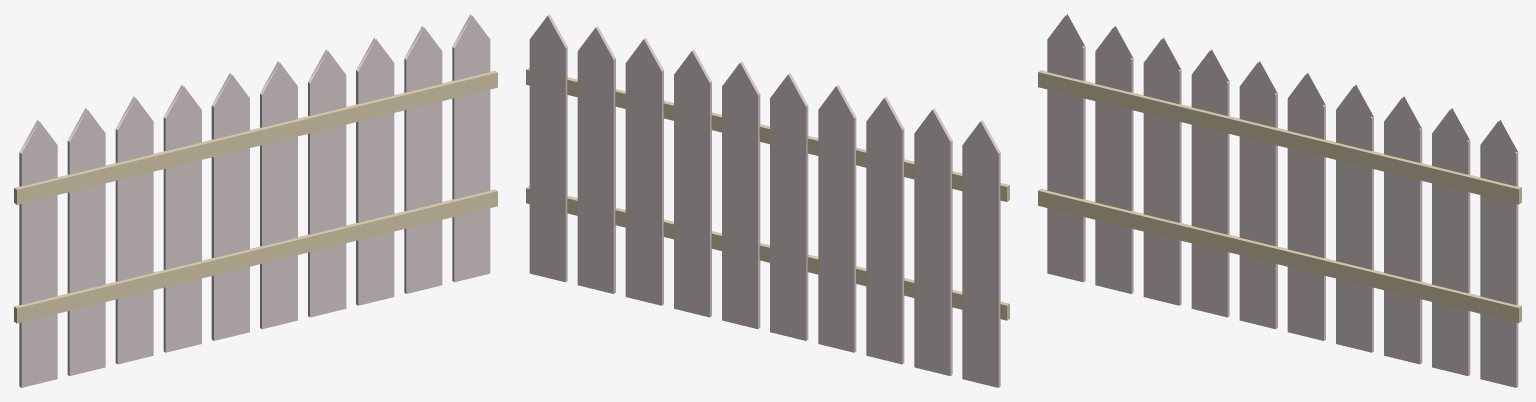
Rendered from Fence.fbx.
3 views of the same model, side by side, from view 1: azimuth 30°, elevation 25°; view 2: azimuth 150°, elevation 25°; view 3: azimuth 330°, elevation 25° (orthographic).
Visible parts, largest first — view 1: Fence.001, Fence; view 2: Fence.001, Fence; view 3: Fence.001, Fence.
Boxes of the visible parts, x1,y1,x2,y2 form: Fence.001: [14, 73, 257, 387]; Fence: [255, 14, 497, 329]; Fence.001: [766, 73, 1009, 387]; Fence: [526, 14, 768, 329]; Fence.001: [1038, 14, 1280, 329]; Fence: [1278, 73, 1521, 387].
Size of the model in its own units: 400 by 209 by 6.32.
